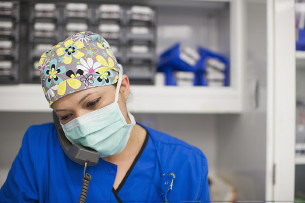face_mask: (53, 72, 123, 157)
